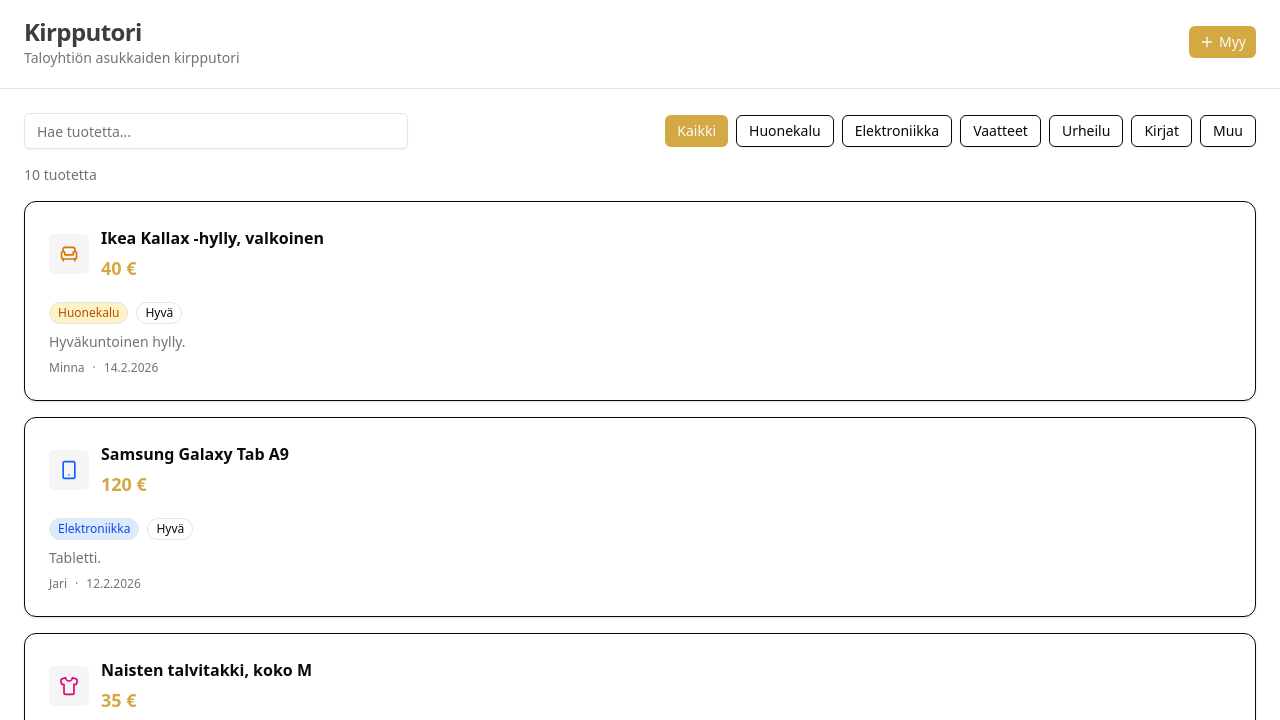
Test: MarketplaceList › filters by category
Check: the link "Ikea Kallax -hylly, valkoinen" is shown, box 101,227 -> 324,249
What coordinates should you click on to do the following:
click the button "Kirjat"
I would click on:
 (1162, 131)
Its box is 1131,115 -> 1192,147.
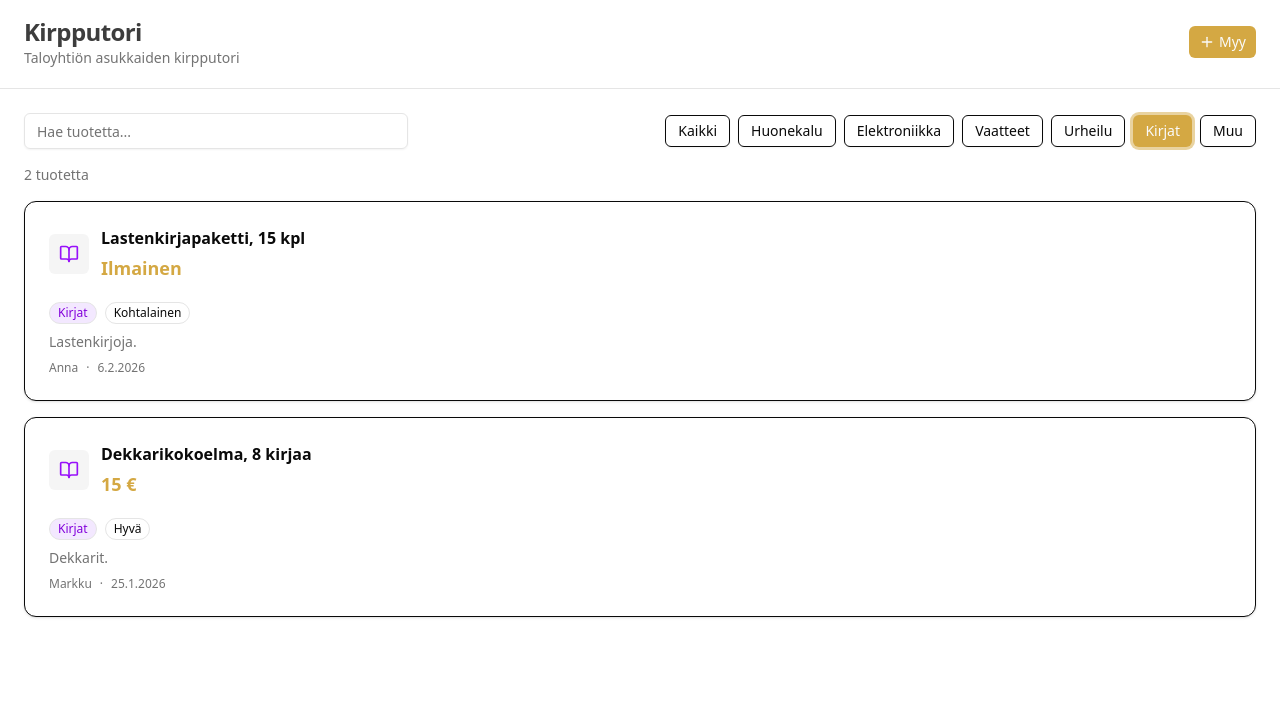
Check: the link "Lastenkirjapaketti, 15 kpl" is shown, box 101,227 -> 305,249
Check: the link "Ikea Kallax -hylly, valkoinen" is gone
Check: the text "2 tuotetta" is shown, box 24,165 -> 89,184
